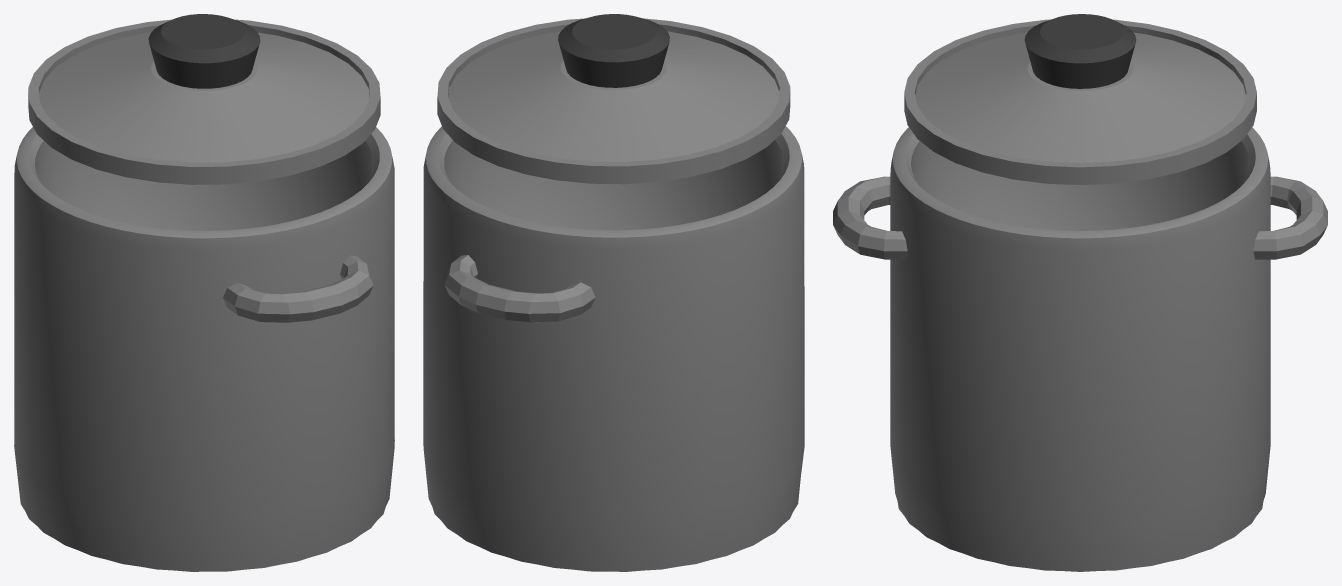
Rendered from pot textured.fbx.
3 renders of one model, left to right at view 1: azimuth 30°, elevation 25°; view 2: azimuth 150°, elevation 25°; view 3: azimuth 270°, elevation 25°, orthographic.
Visible parts, largest first — view 1: Pot, Lid, Lid Holder, Holder.001; view 2: Pot, Lid, Lid Holder, Holder.002; view 3: Pot, Lid, Lid Holder, Holder.001, Holder.002.
Part boxes in pixels (x1=…): Pot: x1=14, y1=127, x2=394, y2=571; Lid: x1=28, y1=19, x2=380, y2=184; Lid Holder: x1=148, y1=14, x2=260, y2=88; Holder.001: x1=223, y1=255, x2=373, y2=322; Pot: x1=423, y1=126, x2=804, y2=571; Lid: x1=437, y1=18, x2=790, y2=184; Lid Holder: x1=558, y1=14, x2=669, y2=87; Holder.002: x1=444, y1=255, x2=595, y2=322; Pot: x1=890, y1=127, x2=1270, y2=571; Lid: x1=904, y1=19, x2=1256, y2=184; Lid Holder: x1=1024, y1=14, x2=1136, y2=88; Holder.001: x1=833, y1=176, x2=907, y2=259; Holder.002: x1=1253, y1=176, x2=1327, y2=259.
Size of the model in its own units: 735 by 983 by 955.
